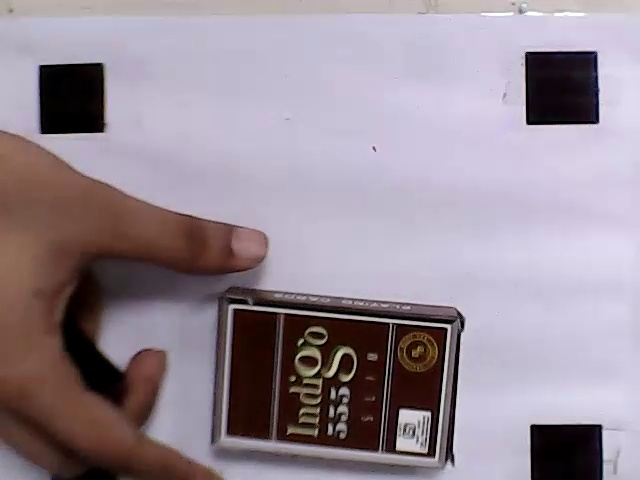BEX: (222, 308, 448, 460)
